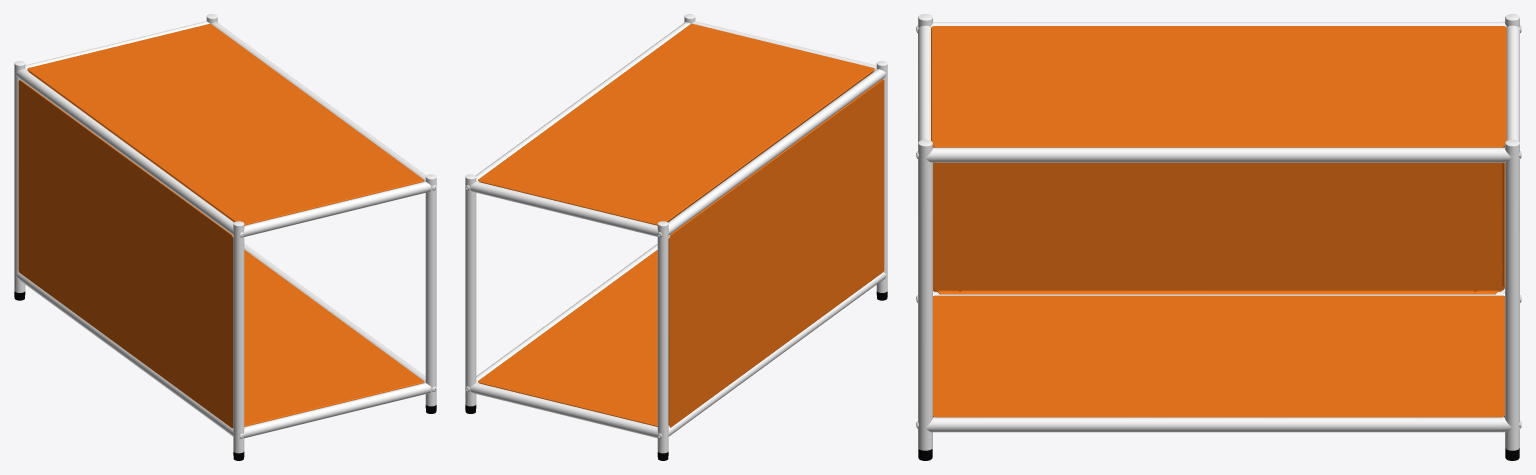
The model's file is 80x40x40-1-2-Orange_optimized.glb.
The picture shows the model from 3 angles, left to right: view 1: azimuth 30°, elevation 25°; view 2: azimuth 150°, elevation 25°; view 3: azimuth 270°, elevation 25°; orthographic projection. The views are drawn at different scales.
Parts seen in each view (by area): view 1: 直角鐵板-80x40-3 - 零件, 鐵管-1層-40-正常腳-32mm-4 - 零件; view 2: 直角鐵板-80x40-3 - 零件, 鐵管-1層-40-正常腳-32mm-4 - 零件; view 3: 直角鐵板-80x40-3 - 零件, 鐵管-1層-40-正常腳-32mm-4 - 零件.
Part boxes in pixels (box(x1,y1,x2,y2)): 直角鐵板-80x40-3 - 零件: box(18, 23, 423, 428); 鐵管-1層-40-正常腳-32mm-4 - 零件: box(14, 14, 436, 453); 直角鐵板-80x40-3 - 零件: box(478, 23, 884, 427); 鐵管-1層-40-正常腳-32mm-4 - 零件: box(465, 14, 887, 453); 直角鐵板-80x40-3 - 零件: box(931, 26, 1506, 417); 鐵管-1層-40-正常腳-32mm-4 - 零件: box(916, 14, 1521, 450).
Size of the model in its own units: 0.3992 by 0.4453 by 0.7732.
